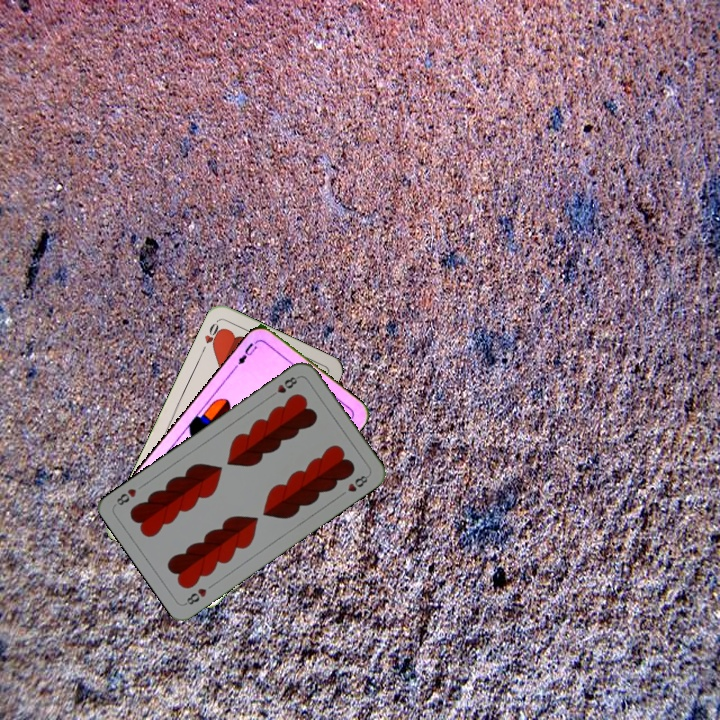EU: (231, 338, 260, 370)
H8: (266, 372, 302, 400), (181, 584, 209, 607)
HO: (197, 317, 225, 356)
